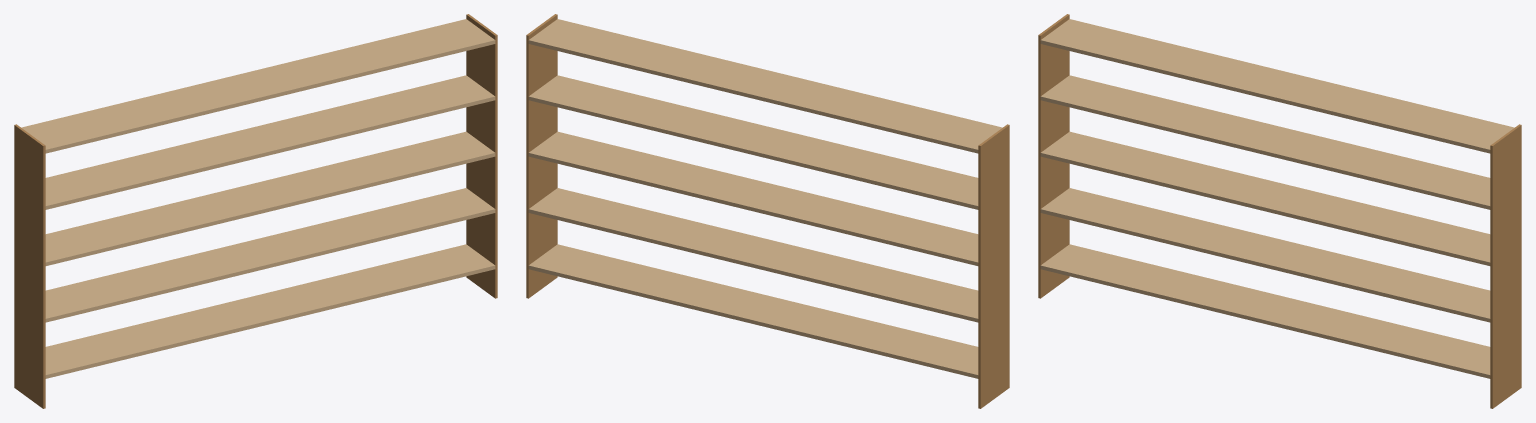
3 views of the same model, side by side, from view 1: azimuth 30°, elevation 25°; view 2: azimuth 150°, elevation 25°; view 3: azimuth 330°, elevation 25° (orthographic).
Parts seen in each view (by area): view 1: estante_storage_e; view 2: estante_storage_e; view 3: estante_storage_e.
Boxes of the visible parts, x1,y1,x2,y2 form: estante_storage_e: (14,14,497,408); estante_storage_e: (526,14,1009,408); estante_storage_e: (1038,14,1521,408).
Bounding box in the file's own units: 3.8 × 0.42 × 2.1.
